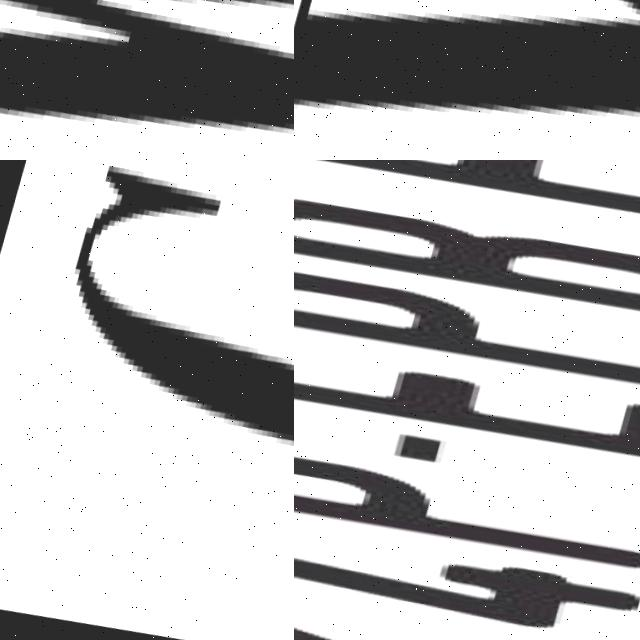4: (294, 481, 640, 640)
9: (294, 160, 640, 202)
B: (294, 160, 640, 363)
E: (294, 294, 640, 494), (294, 160, 640, 269)
G: (20, 160, 294, 535)
K: (294, 539, 640, 640)
P: (294, 232, 640, 436), (294, 406, 640, 608)
W: (294, 0, 640, 160), (0, 0, 294, 160)
